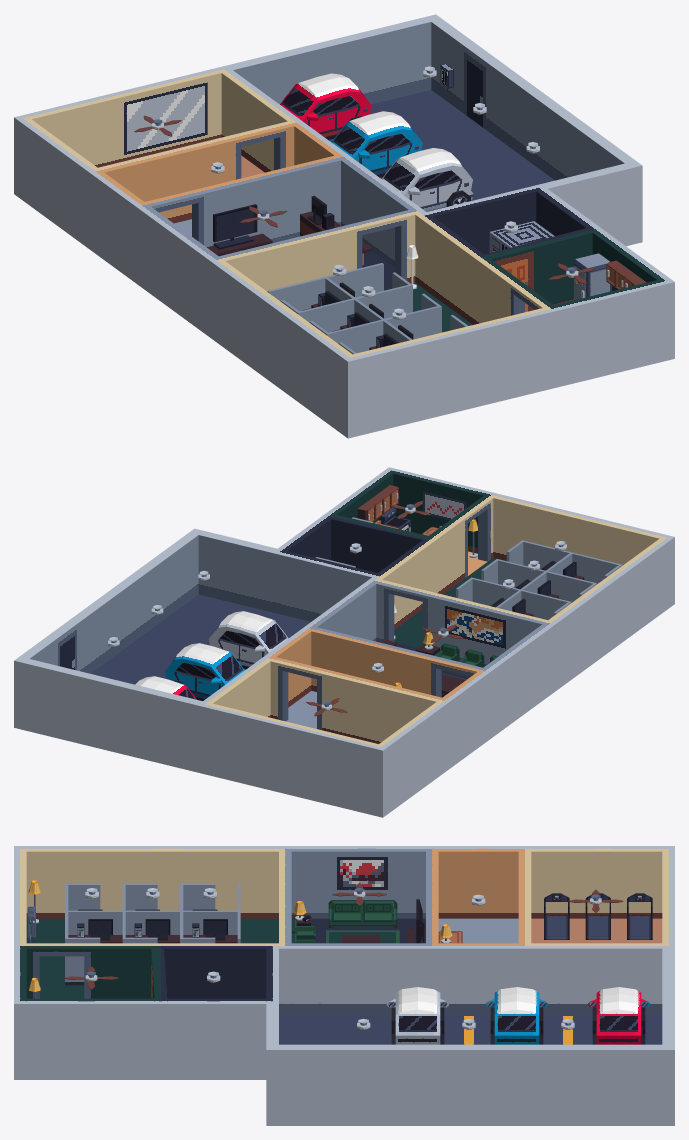
File: office.gltf
3 views of the same model, one above another, from view 1: azimuth 30°, elevation 25°; view 2: azimuth 150°, elevation 25°; view 3: azimuth 270°, elevation 25° (orthographic). The views are drawn at different scales.
Parts seen in each view (by area): view 1: office_walls, garage_walls, office_floor, garage_floor, left_car, right_car, middle_car, kevin_walls, brenda_cubicle_walls, waiting_room_tv, greg_cubicle_walls, olivia_walls (+3 smaller); view 2: office_walls, garage_walls, garage_floor, office_floor, middle_car, left_car, kevin_walls, brenda_cubicle_walls, bob_cubicle_walls, sarah_cubicle_walls, break_room_selves, right_car; view 3: office_walls, garage_walls, office_floor, garage_floor, right_car, left_car, middle_car, bob_cubicle_walls, waiting_room_couch, brenda_cubicle_walls, olivia_walls, kevin_walls (+9 smaller).
Part boxes in pixels (x1,y1,x2,y2): office_walls: (14, 65, 674, 429); garage_walls: (226, 14, 642, 239); office_floor: (14, 155, 674, 438); garage_floor: (328, 90, 642, 246); left_car: (382, 148, 473, 211); right_car: (280, 73, 371, 139); middle_car: (331, 111, 422, 177); kevin_walls: (296, 298, 383, 353); brenda_cubicle_walls: (353, 284, 441, 339); waiting_room_tv: (213, 204, 257, 249); greg_cubicle_walls: (267, 277, 352, 312); olivia_walls: (324, 263, 410, 298); office_walls: (197, 467, 674, 809); garage_walls: (14, 528, 277, 764); garage_floor: (14, 594, 310, 772); office_floor: (197, 551, 674, 817); middle_car: (165, 643, 244, 700); left_car: (208, 611, 288, 669); kevin_walls: (521, 571, 596, 619); brenda_cubicle_walls: (470, 559, 546, 605); bob_cubicle_walls: (506, 540, 573, 572); sarah_cubicle_walls: (548, 553, 622, 583); break_room_selves: (357, 485, 398, 521); right_car: (135, 676, 196, 699); office_walls: (14, 846, 674, 1071); garage_walls: (266, 948, 674, 1117); office_floor: (14, 918, 662, 1079); garage_floor: (266, 1016, 674, 1125); right_car: (588, 987, 650, 1044); left_car: (386, 987, 448, 1044); middle_car: (485, 987, 547, 1044); bob_cubicle_walls: (65, 910, 125, 985); waiting_room_couch: (328, 900, 397, 927); brenda_cubicle_walls: (122, 910, 183, 943); olivia_walls: (183, 910, 240, 943); kevin_walls: (122, 883, 183, 910).
Size of the model in its own units: 9.44 by 1.64 by 12.94.
53 materials, 52 textured.
